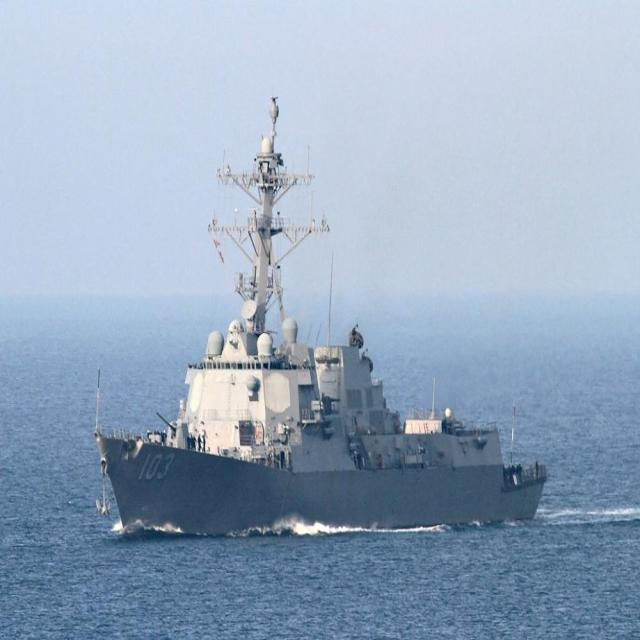navalvessels: (80, 100, 549, 552)
